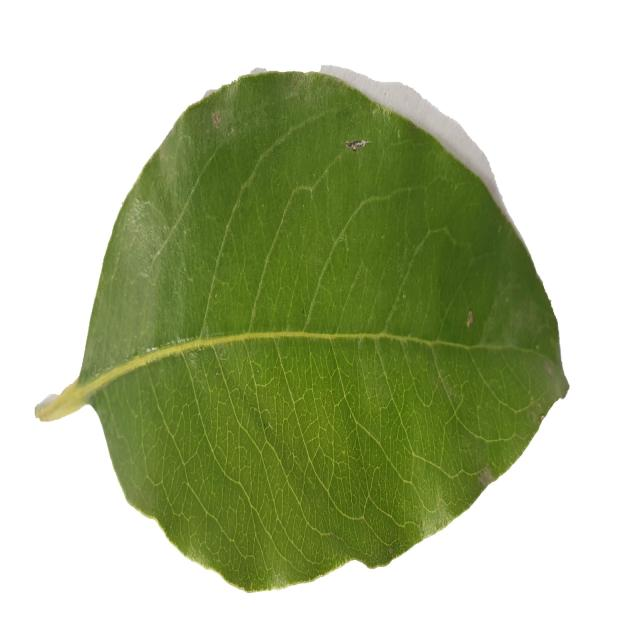Medicinal-Sandalwood: (35, 67, 569, 597)
